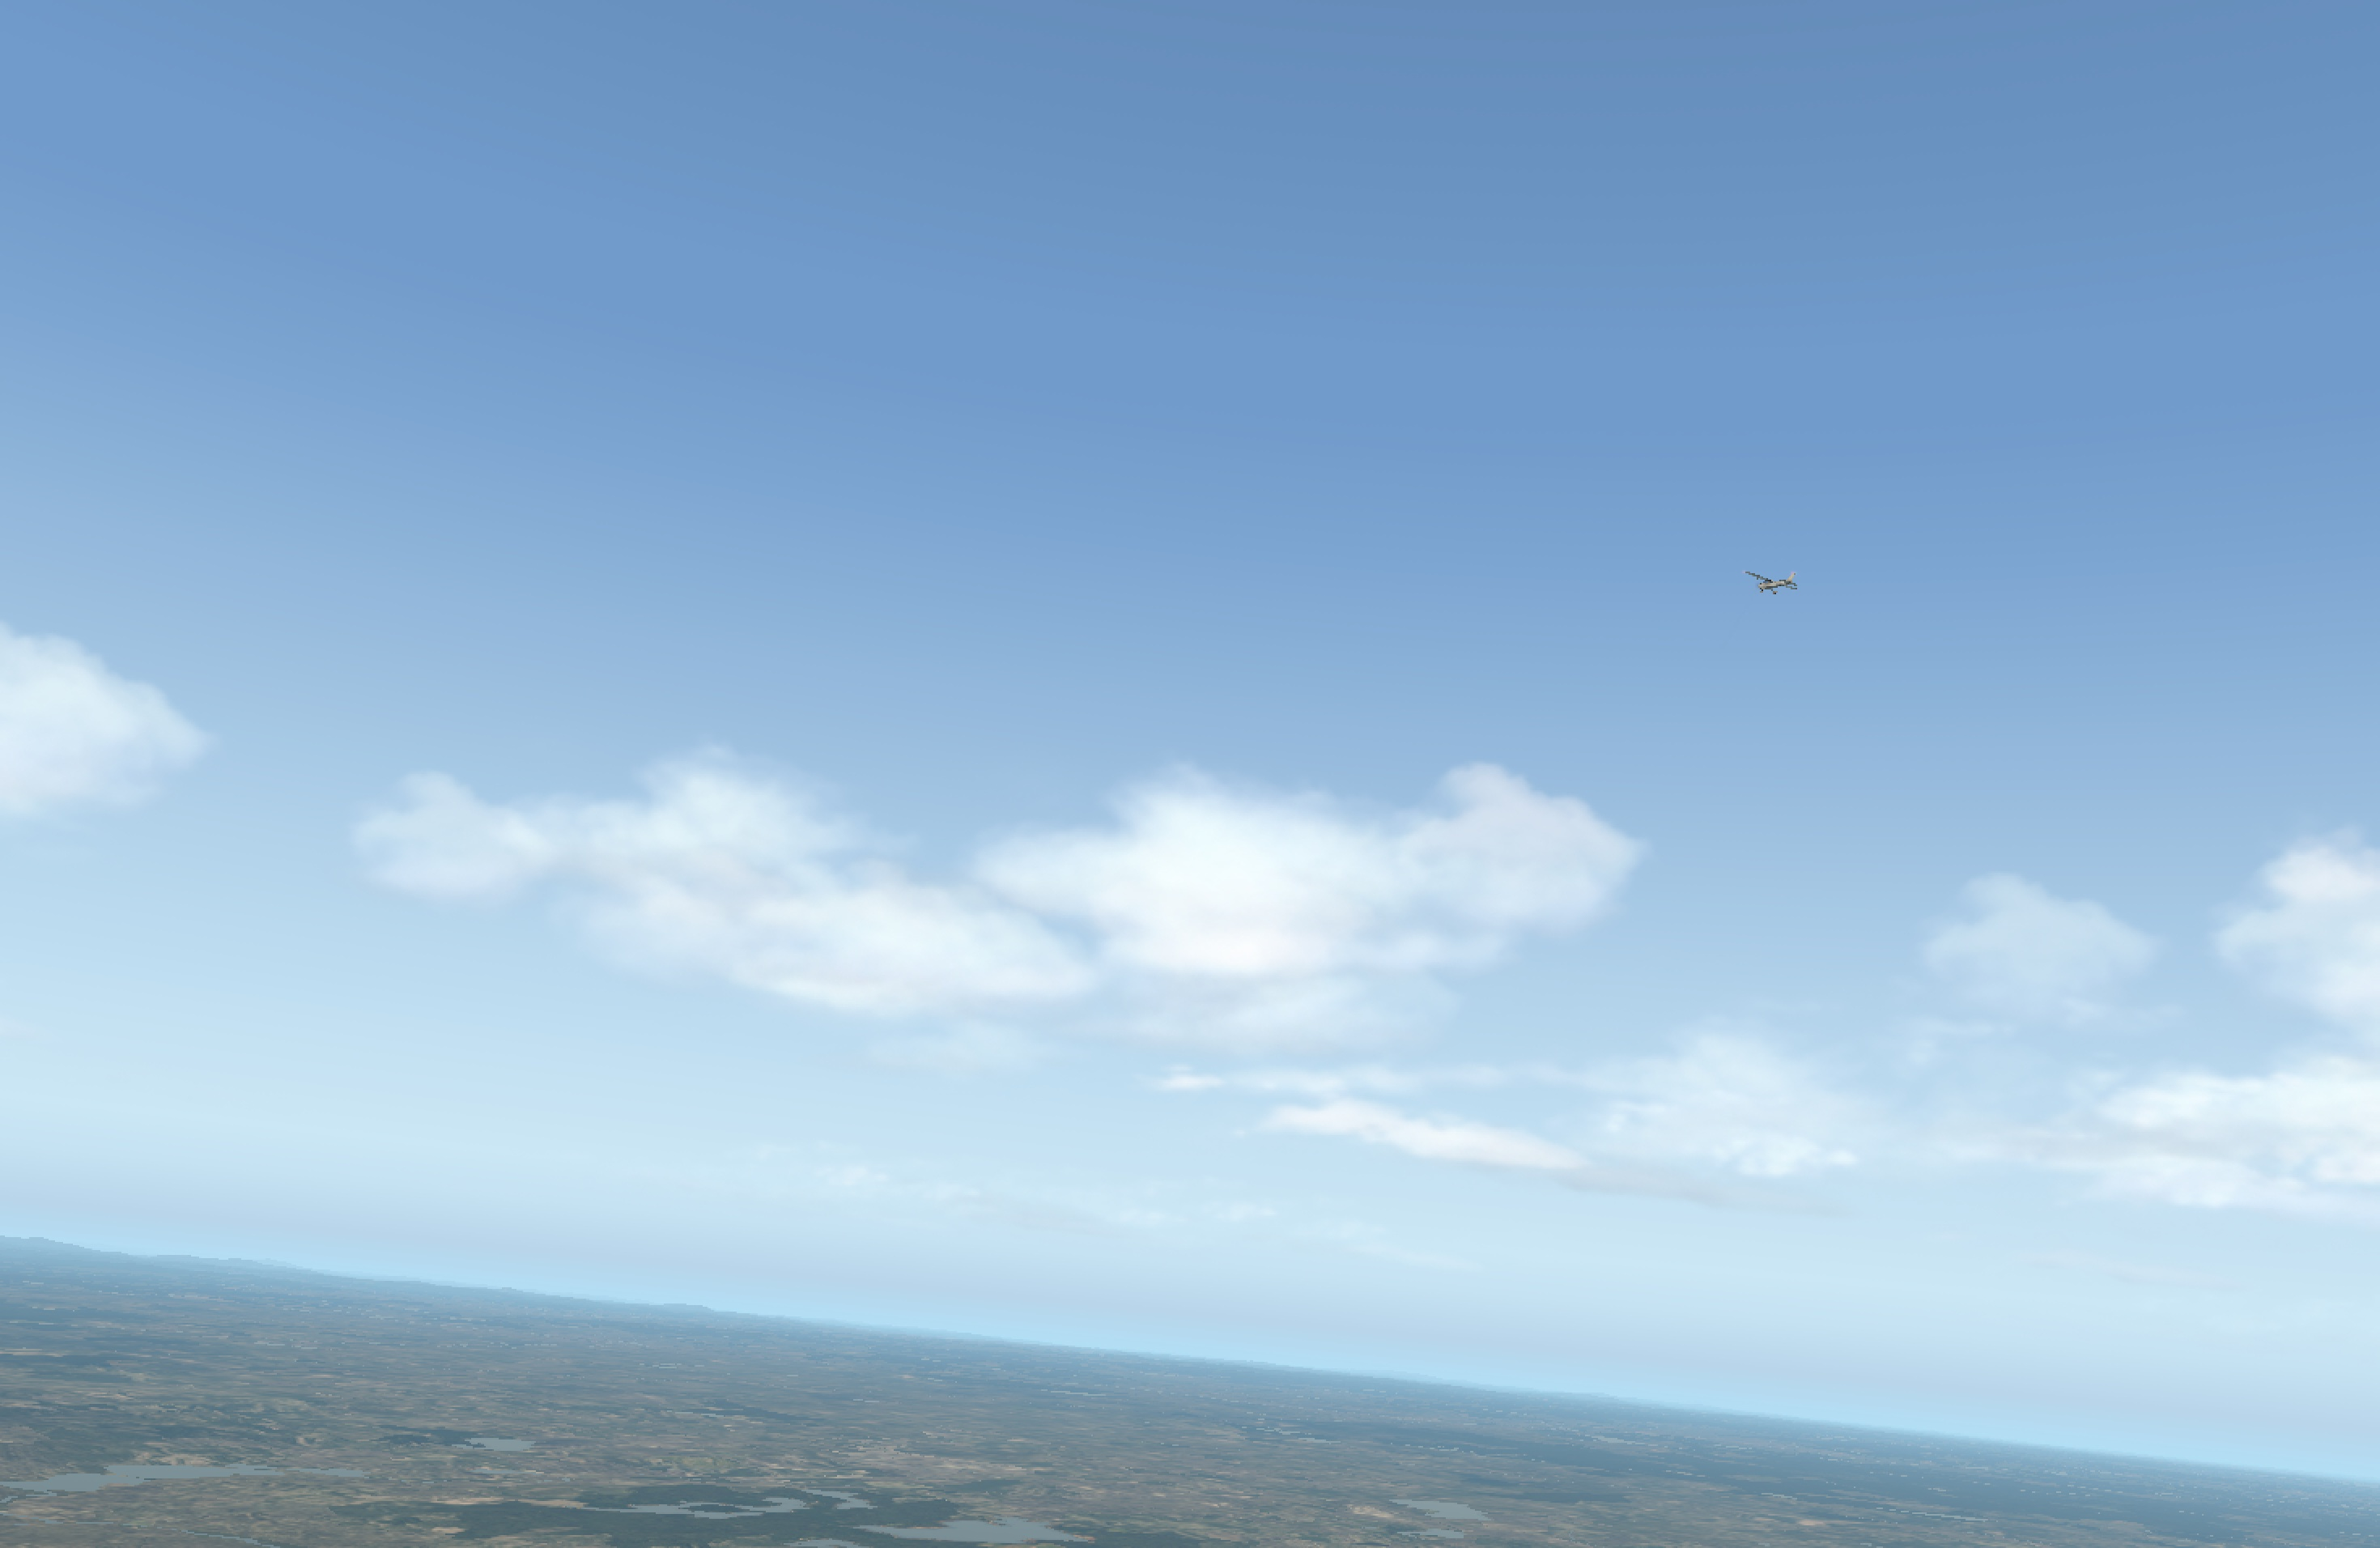aircraft: (1745, 576, 1792, 594)
